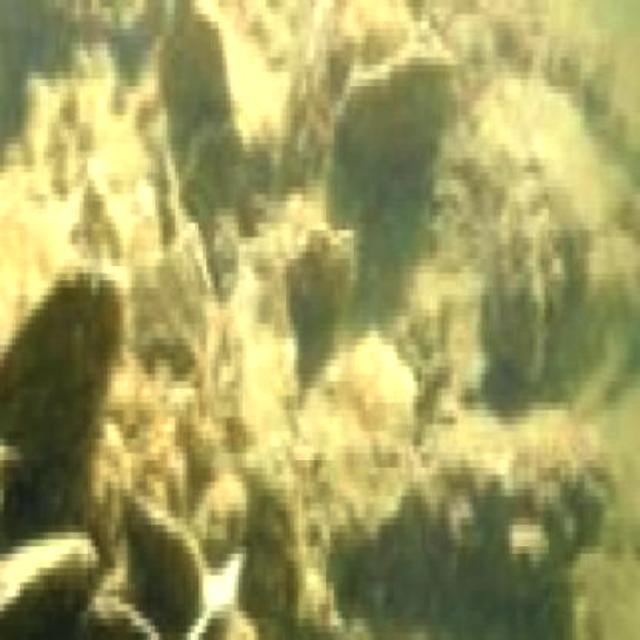Oyster-Closed: (0, 279, 121, 540), (327, 54, 461, 193), (0, 531, 97, 640)
Oyster-Open: (78, 512, 204, 640)
